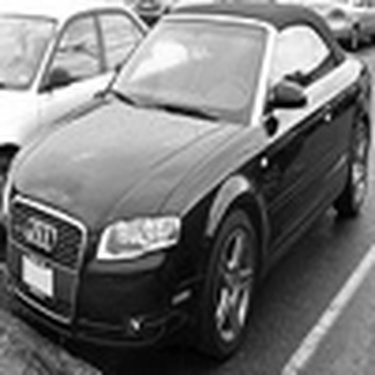car: (13, 1, 364, 357), (1, 3, 184, 130)
